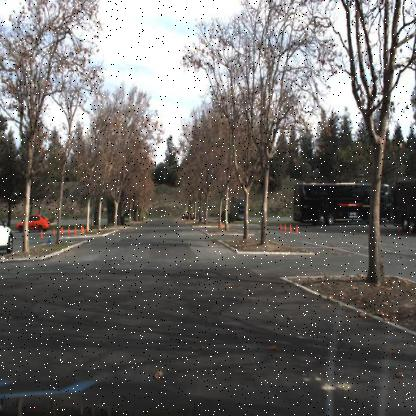car: (15, 214, 49, 233), (0, 216, 14, 256)
truck: (292, 181, 392, 226), (390, 179, 416, 235), (226, 196, 247, 220)
